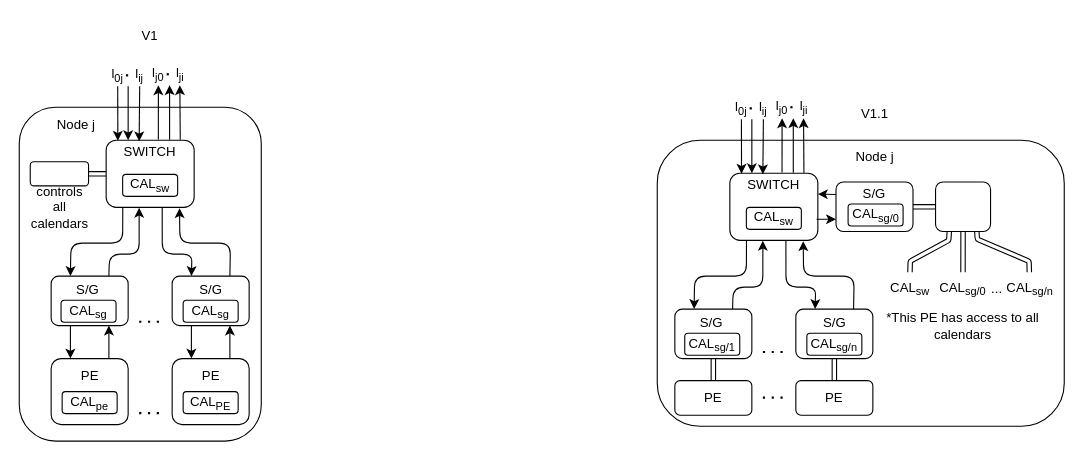
The diagram is 1084 pixels wide and 460 high, and some of its shapes have lost their labels. The centre of each missing label's shape, as x and y in pixels:
nMU: point 59,173
PE *: point 962,206
